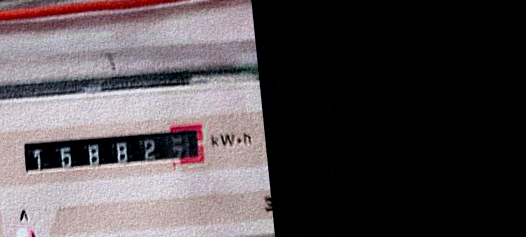1: (30, 146, 46, 169)
2: (141, 137, 159, 162)
5: (58, 143, 75, 170)
7: (172, 141, 185, 159)
8: (114, 140, 130, 165), (86, 143, 102, 167)
screen: (14, 115, 216, 190)
